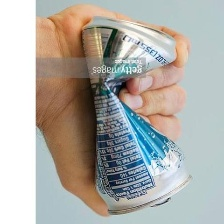can: (71, 15, 195, 217)
